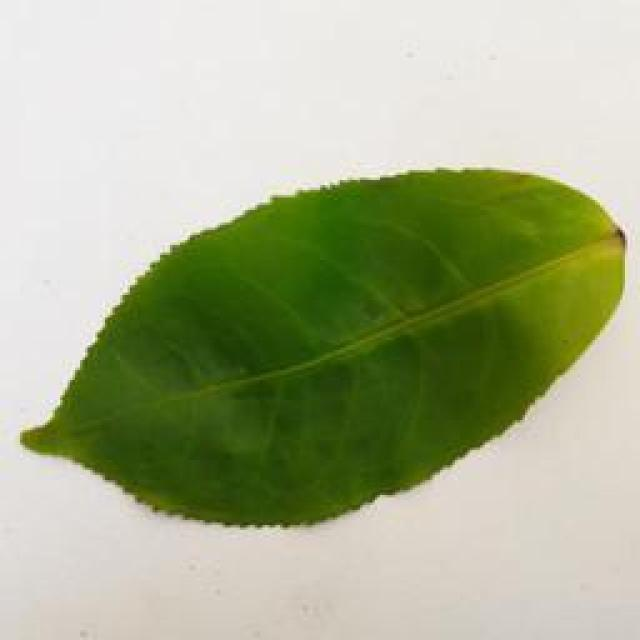Healthy: (25, 164, 640, 534)
